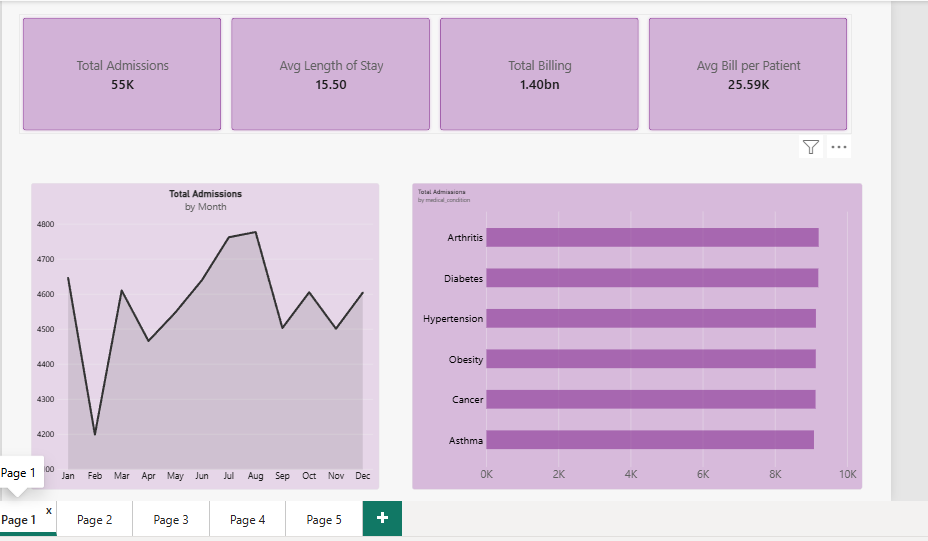

Layout of this report page (visuals, bound fields, positions):
{"tool":"powerbi","page":{"name":"Page 1","canvas":[2560,1440],"ordinal":0},"visuals":[{"type":"cardVisual","fields":{"Data":["admission.Total Admissions","admission.Avg Length of Stay","admission.Total Billing","admission.Avg Bill per Patient"]},"box":[50,36.7,2396.7,346.7],"z":0},{"type":"lineChart","fields":{"Category":["date_table.Month"],"Y":["admission.Total Admissions"]},"box":[83.3,523.3,1003.3,883.3],"z":1000},{"type":"clusteredBarChart","fields":{"Y":["admission.Total Admissions"],"Category":["admission.medical_condition"]},"box":[1180,523.3,1296.7,883.3],"z":2000}]}

Visuals, with their boxes on the page's 2560x1440 design canvas (x1, y1, x2, y2). These are canvas units, not pixel positions in the 928x541 screenshot, which may show the page scaled, cropped or inside an application window:
cardVisual - admission.Total Admissions x admission.Avg Length of Stay: [x1=50, y1=37, x2=2447, y2=383]
lineChart - date_table.Month x admission.Total Admissions: [x1=83, y1=523, x2=1087, y2=1407]
clusteredBarChart - admission.Total Admissions x admission.medical_condition: [x1=1180, y1=523, x2=2477, y2=1407]
